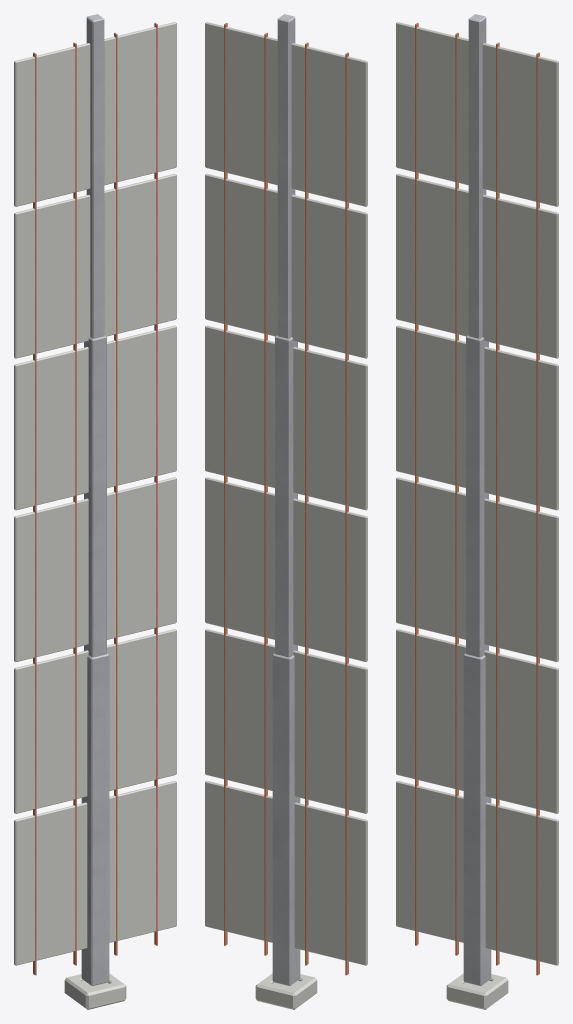
Rendered from ax_power_09_heat_pipe_boom_l_deployed.glb.
3 views of the same model, side by side, from view 1: azimuth 30°, elevation 25°; view 2: azimuth 150°, elevation 25°; view 3: azimuth 330°, elevation 25° (orthographic).
Visible parts, largest first — view 1: panel_6, panel_5, panel_3, panel_4, panel_2, panel_1, boom, heat_pipes, mount_block; view 2: panel_6, panel_5, panel_3, panel_4, panel_2, panel_1, boom, heat_pipes, mount_block; view 3: panel_6, panel_5, panel_3, panel_4, panel_2, panel_1, boom, heat_pipes, mount_block.
Part boxes in pixels (box(x1,y1,x2,y2)): panel_6: box(14, 22, 176, 206); panel_5: box(14, 173, 176, 358); panel_3: box(14, 477, 176, 661); panel_4: box(14, 325, 176, 510); panel_2: box(14, 629, 176, 813); panel_1: box(14, 781, 176, 965); boom: box(81, 14, 109, 985); heat_pipes: box(33, 22, 157, 975); mount_block: box(64, 973, 126, 1009); panel_6: box(205, 22, 367, 206); panel_5: box(205, 173, 367, 358); panel_3: box(205, 477, 367, 661); panel_4: box(205, 325, 367, 510); panel_2: box(205, 629, 367, 813); panel_1: box(205, 781, 367, 965); boom: box(272, 14, 300, 985); heat_pipes: box(224, 22, 348, 975); mount_block: box(255, 973, 317, 1009); panel_6: box(396, 22, 558, 206); panel_5: box(396, 173, 558, 358); panel_3: box(396, 477, 558, 661); panel_4: box(396, 325, 558, 510); panel_2: box(396, 629, 558, 813); panel_1: box(396, 781, 558, 965); boom: box(463, 14, 491, 985); heat_pipes: box(415, 22, 539, 975); mount_block: box(446, 973, 508, 1009).
Bounding box in the file's own units: 1.6 × 9.26 × 0.4.
Materials: 3 (2 with a texture image).
